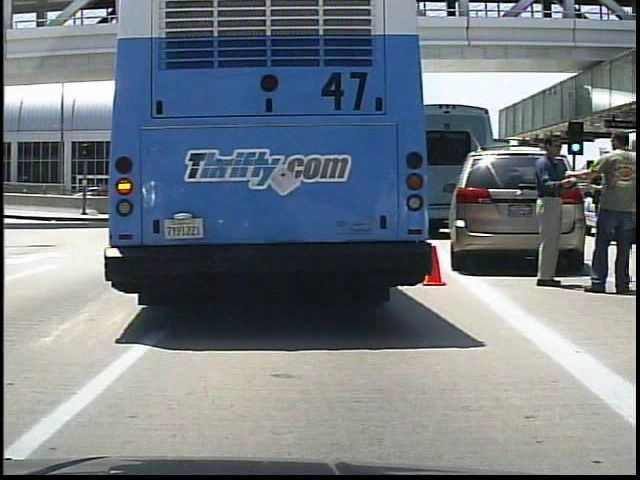person: (528, 128, 594, 298), (577, 123, 637, 298)
